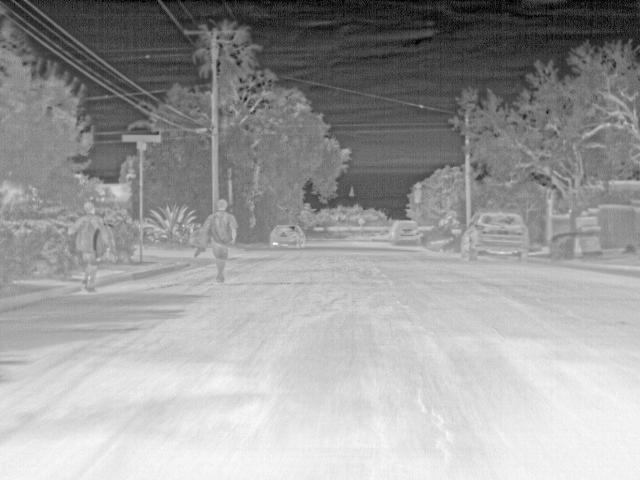car: (458, 208, 531, 263), (269, 223, 306, 250), (388, 220, 423, 248)
person: (66, 200, 109, 294), (204, 197, 239, 284)
